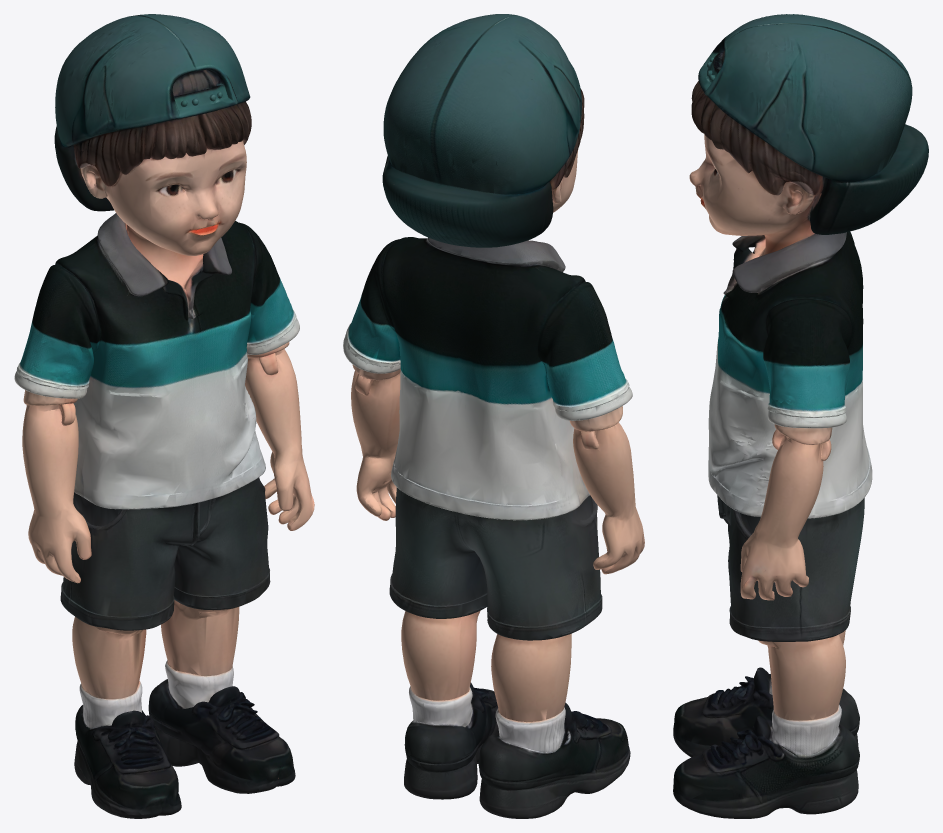
Rendered from capdoll.glb.
3 renders of one model, left to right at view 1: azimuth 30°, elevation 25°; view 2: azimuth 150°, elevation 25°; view 3: azimuth 270°, elevation 25°, orthographic.
Visible parts, largest first — view 1: model; view 2: model; view 3: model.
Part boxes in pixels (box(x1,y1,x2,y2)): model: box(14, 14, 314, 818); model: box(343, 14, 644, 818); model: box(673, 14, 928, 818).
Size of the model in its own units: 0.7294 by 1.9 by 0.5816.
Materials: 1 (1 with a texture image).
